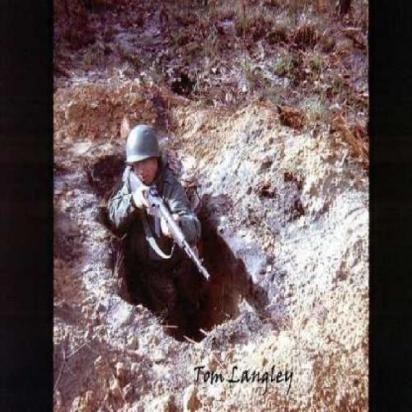Gun: (131, 182, 209, 282)
